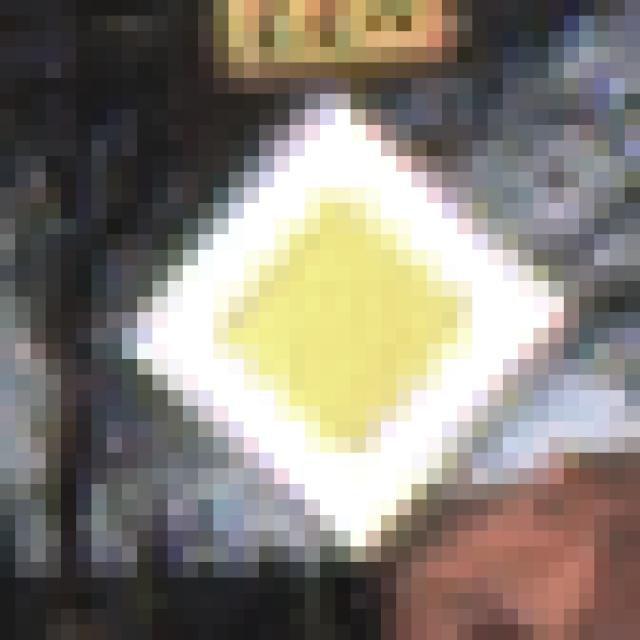Main Road: (92, 79, 565, 563)
